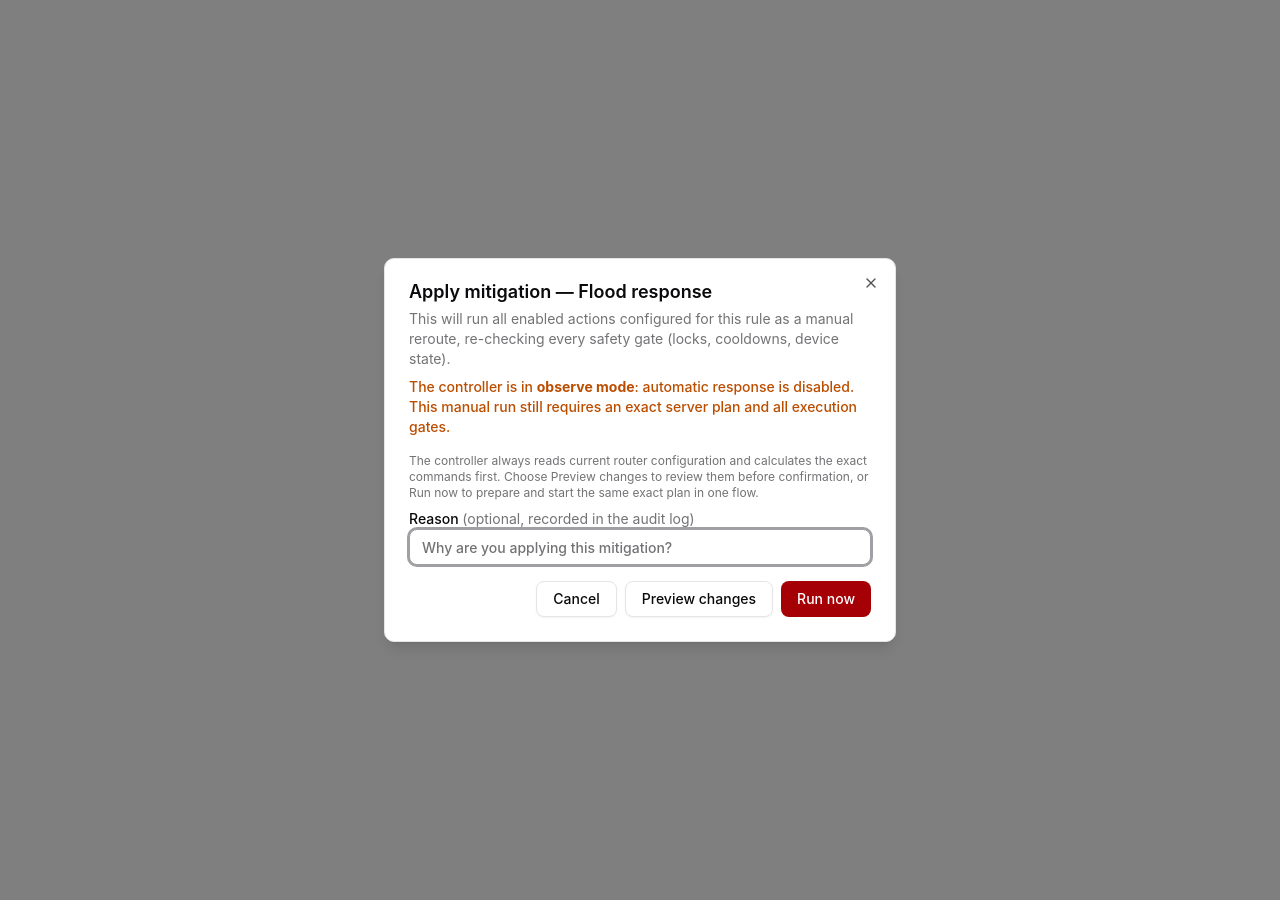
Test: manual mitigation workflow › does not retry a direct rule run after the server refuses admission
This screenshot has width=1280, height=900.
Click the button "Run now". click: (826, 599)
box: [781,581,871,617]
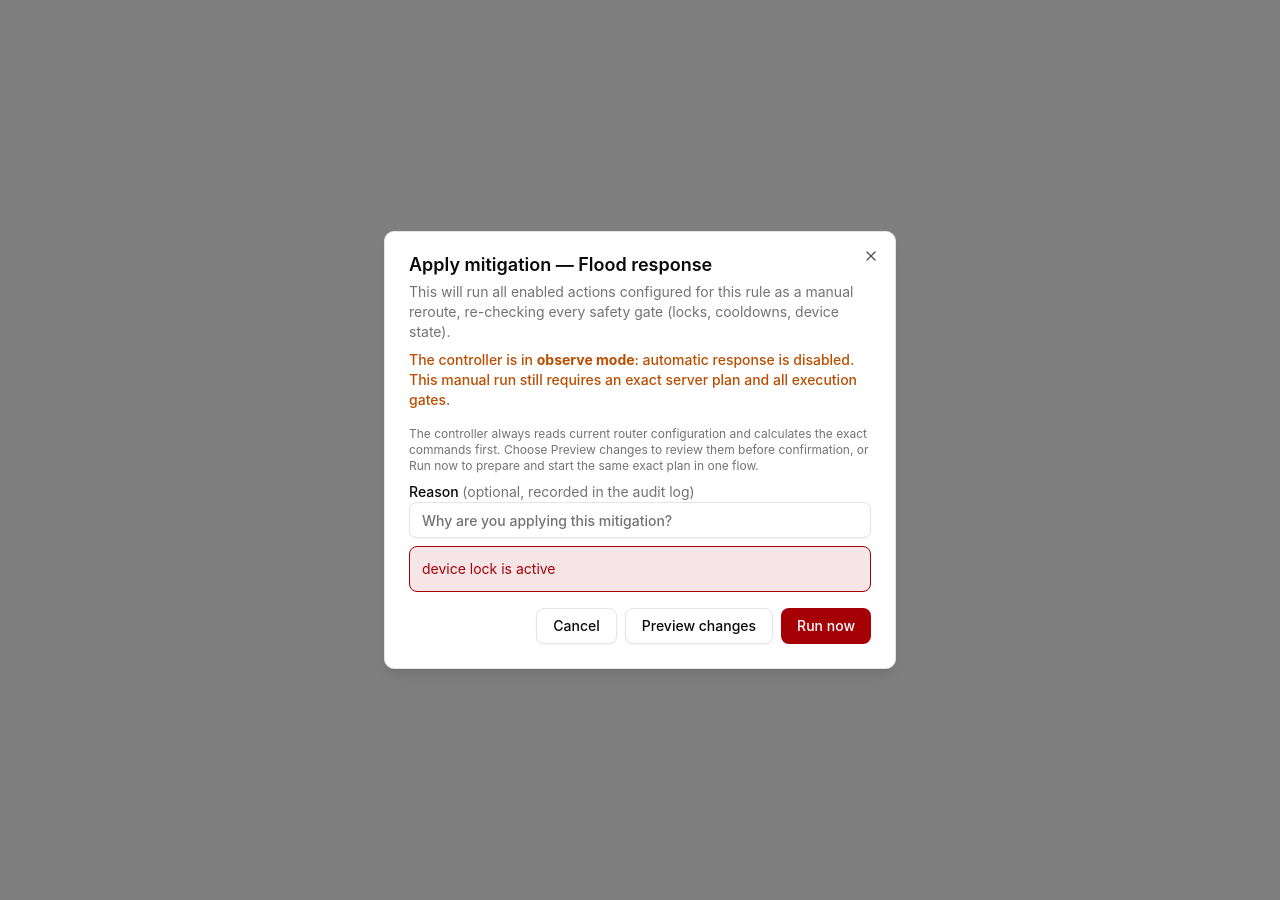
Now the text "device lock is active" is shown, box [409,546,871,592]
